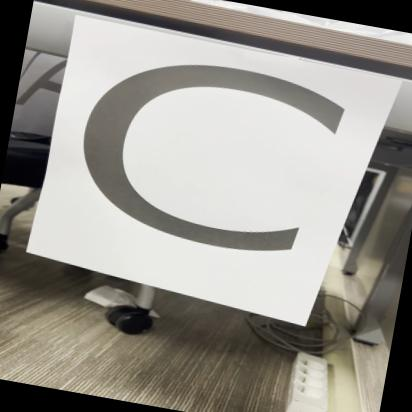seat: (32, 24, 371, 318)
